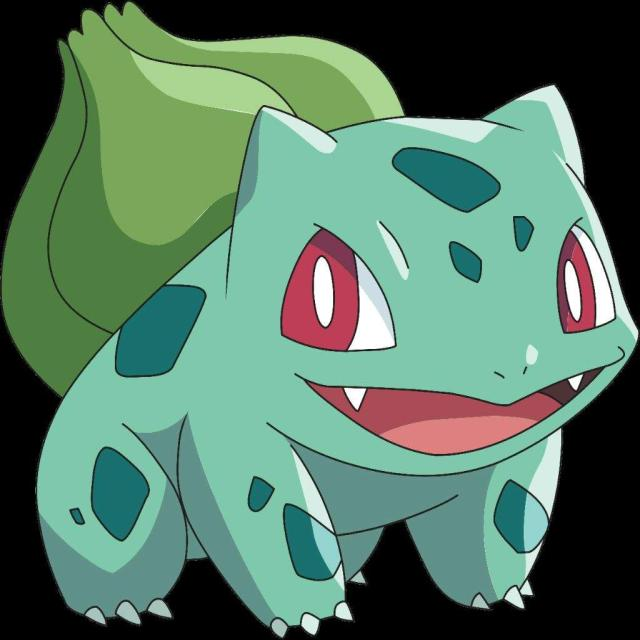Bulbasaur: (71, 105, 620, 628)
